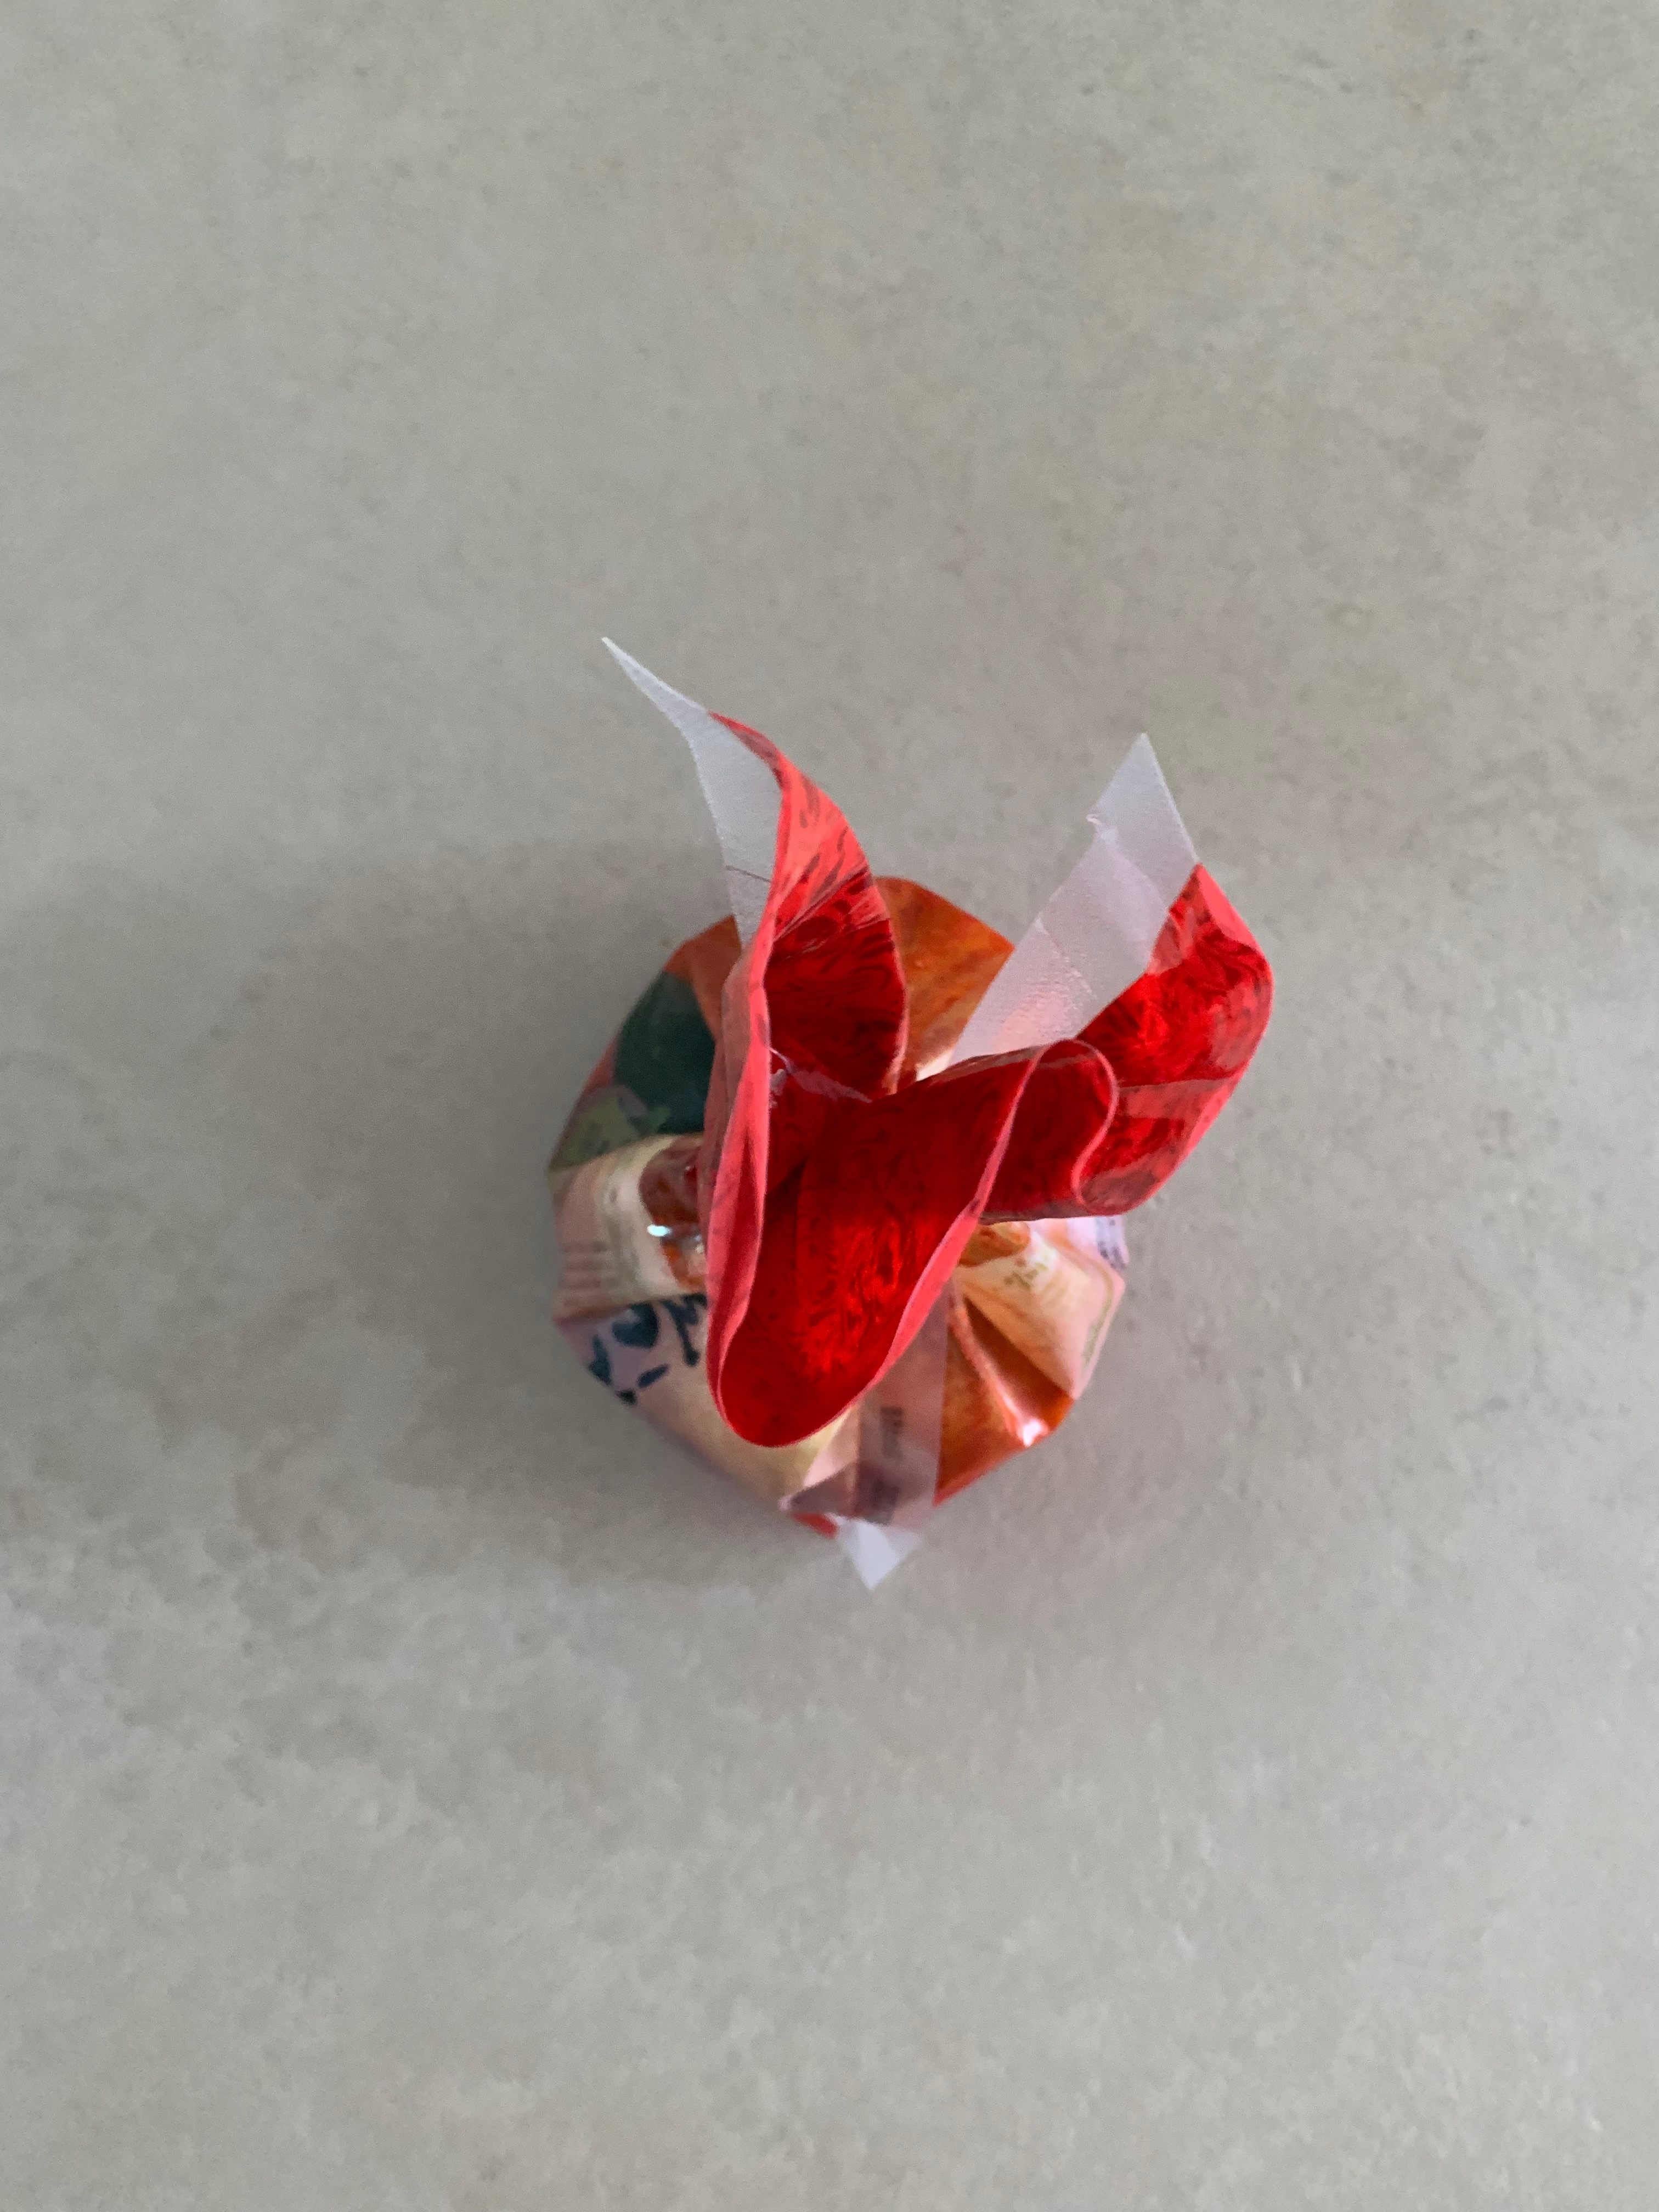kimchi: (556, 792, 1260, 1540)
